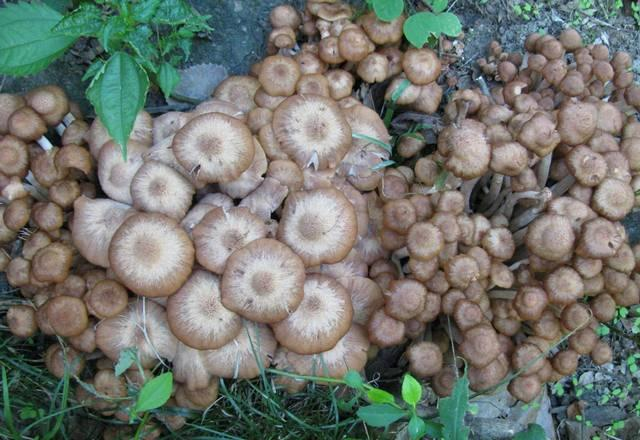Edible Mushroom: (1, 0, 638, 421)
